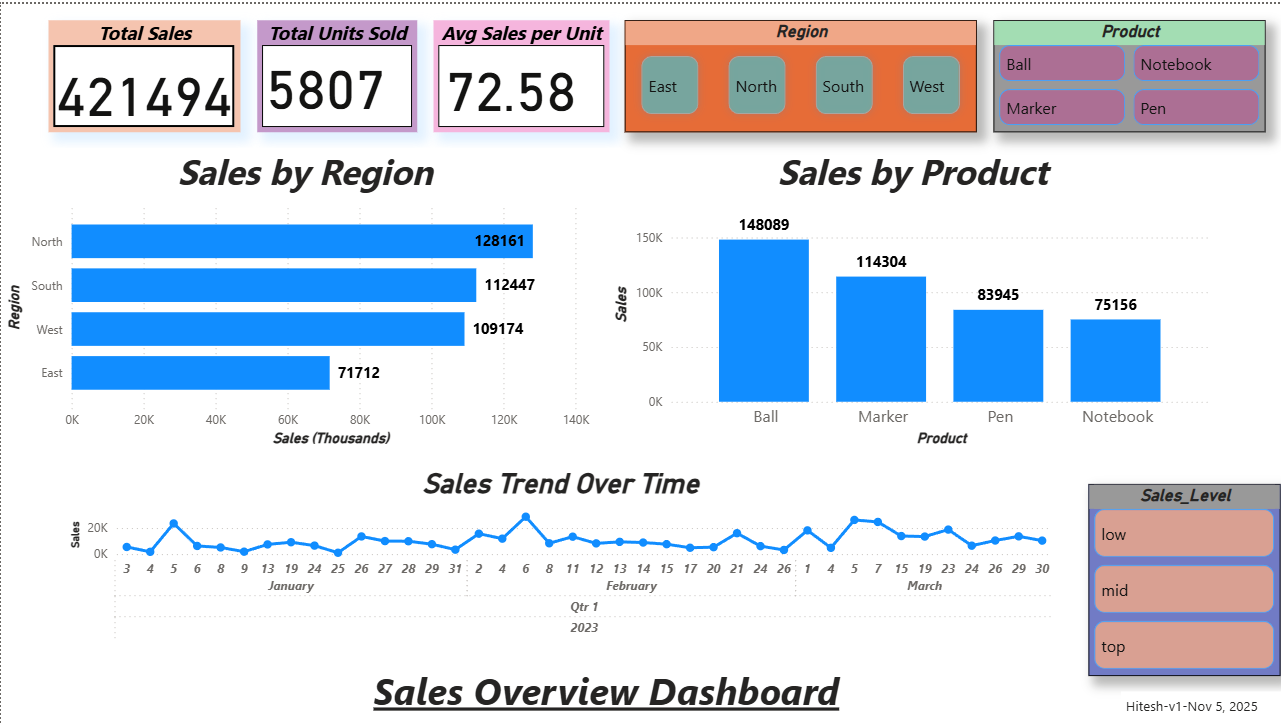

The dashboard page shown, as its layout file describes it:
{"tool":"powerbi","page":{"name":"Page 1","canvas":[1280,720],"ordinal":0},"visuals":[{"type":"cardVisual","title":"Total Sales","fields":{"Data":["Sum(Dataset.Sales)"]},"box":[48,16,192,112],"z":0},{"type":"cardVisual","title":"Total Units Sold","fields":{"Data":["Sum(Dataset.Units)"]},"box":[256,16,160,112],"z":1000},{"type":"cardVisual","title":"Avg Sales per Unit","fields":{"Data":["Dataset.AvgSalesPerUnit"]},"box":[432,16,176,112],"z":2000},{"type":"clusteredBarChart","title":"Sales by Region","fields":{"Category":["Dataset.Region"],"Y":["Sum(Dataset.Sales)"]},"box":[0,144,608,304],"z":3000},{"type":"clusteredColumnChart","title":"Sales by Product","fields":{"Category":["Dataset.Product"],"Y":["Sum(Dataset.Sales)"]},"box":[608,144,608,304],"z":4000},{"type":"lineChart","title":"Sales Trend Over Time","fields":{"Y":["Sum(Dataset.Sales)"],"Category":["Dataset.Date.Variation.Date Hierarchy.Year","Dataset.Date.Variation.Date Hierarchy.Quarter","Dataset.Date.Variation.Date Hierarchy.Month","Dataset.Date.Variation.Date Hierarchy.Day"]},"box":[64,464,992,192],"z":5000},{"type":"advancedSlicerVisual","fields":{"Values":["Dataset.Product"]},"box":[992,16,272,112],"z":6000},{"type":"advancedSlicerVisual","fields":{"Values":["Dataset.Region"]},"box":[624,16,352,112],"z":7000},{"type":"advancedSlicerVisual","fields":{"Values":["Dataset.Sales_Level"]},"box":[1088,480,192,192],"z":8000},{"type":"textbox","box":[368,656,512,64],"z":9000},{"type":"textbox","box":[1120,688,160,32],"z":10000}]}

Visuals, with their boxes in screenshot pixels (x1, y1, x2, y2), scaled from the page's 1280x720 canvas onto the 1281x724 screenshot:
"Total Sales" cardVisual: region(48, 16, 240, 129)
"Total Units Sold" cardVisual: region(256, 16, 416, 129)
"Avg Sales per Unit" cardVisual: region(432, 16, 608, 129)
"Sales by Region" clusteredBarChart: region(0, 145, 608, 450)
"Sales by Product" clusteredColumnChart: region(608, 145, 1217, 450)
"Sales Trend Over Time" lineChart: region(64, 467, 1057, 660)
advancedSlicerVisual - Dataset.Product: region(993, 16, 1265, 129)
advancedSlicerVisual - Dataset.Region: region(624, 16, 977, 129)
advancedSlicerVisual - Dataset.Sales_Level: region(1089, 483, 1280, 676)
textbox: region(368, 660, 881, 723)
textbox: region(1121, 692, 1280, 723)
